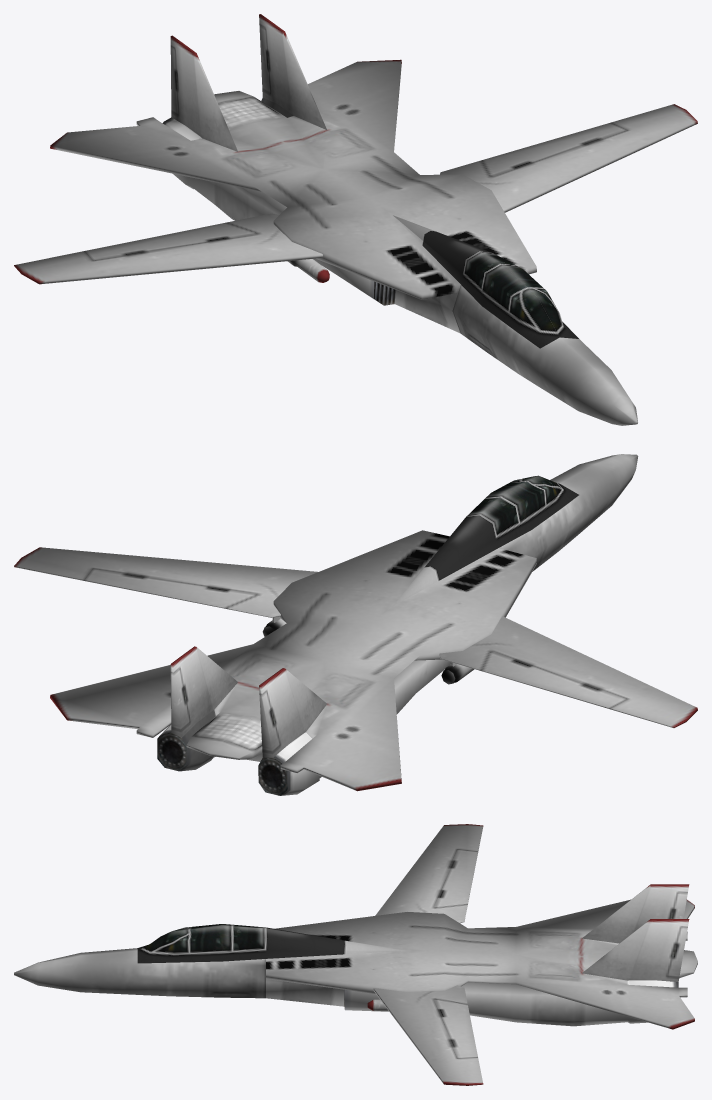
The picture shows the model from 3 angles, top to bottom: view 1: azimuth 30°, elevation 25°; view 2: azimuth 150°, elevation 25°; view 3: azimuth 270°, elevation 25°; orthographic projection. The views are drawn at different scales.
Visible parts, largest first — view 1: headusOBJexport; view 2: headusOBJexport; view 3: headusOBJexport.
Boxes of the visible parts, bbox=[...] form: headusOBJexport: bbox=[14, 14, 697, 425]; headusOBJexport: bbox=[14, 454, 697, 795]; headusOBJexport: bbox=[14, 824, 697, 1085].
Size of the model in its own units: 722 by 133 by 802.
